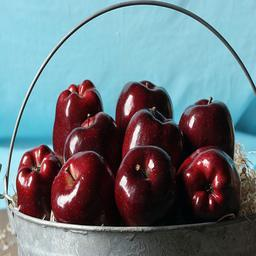apple: (112, 145, 178, 225), (51, 149, 119, 224), (176, 146, 241, 221), (179, 98, 235, 164), (13, 144, 60, 219), (122, 108, 182, 163), (53, 80, 102, 147), (66, 111, 121, 164), (116, 81, 174, 127)
